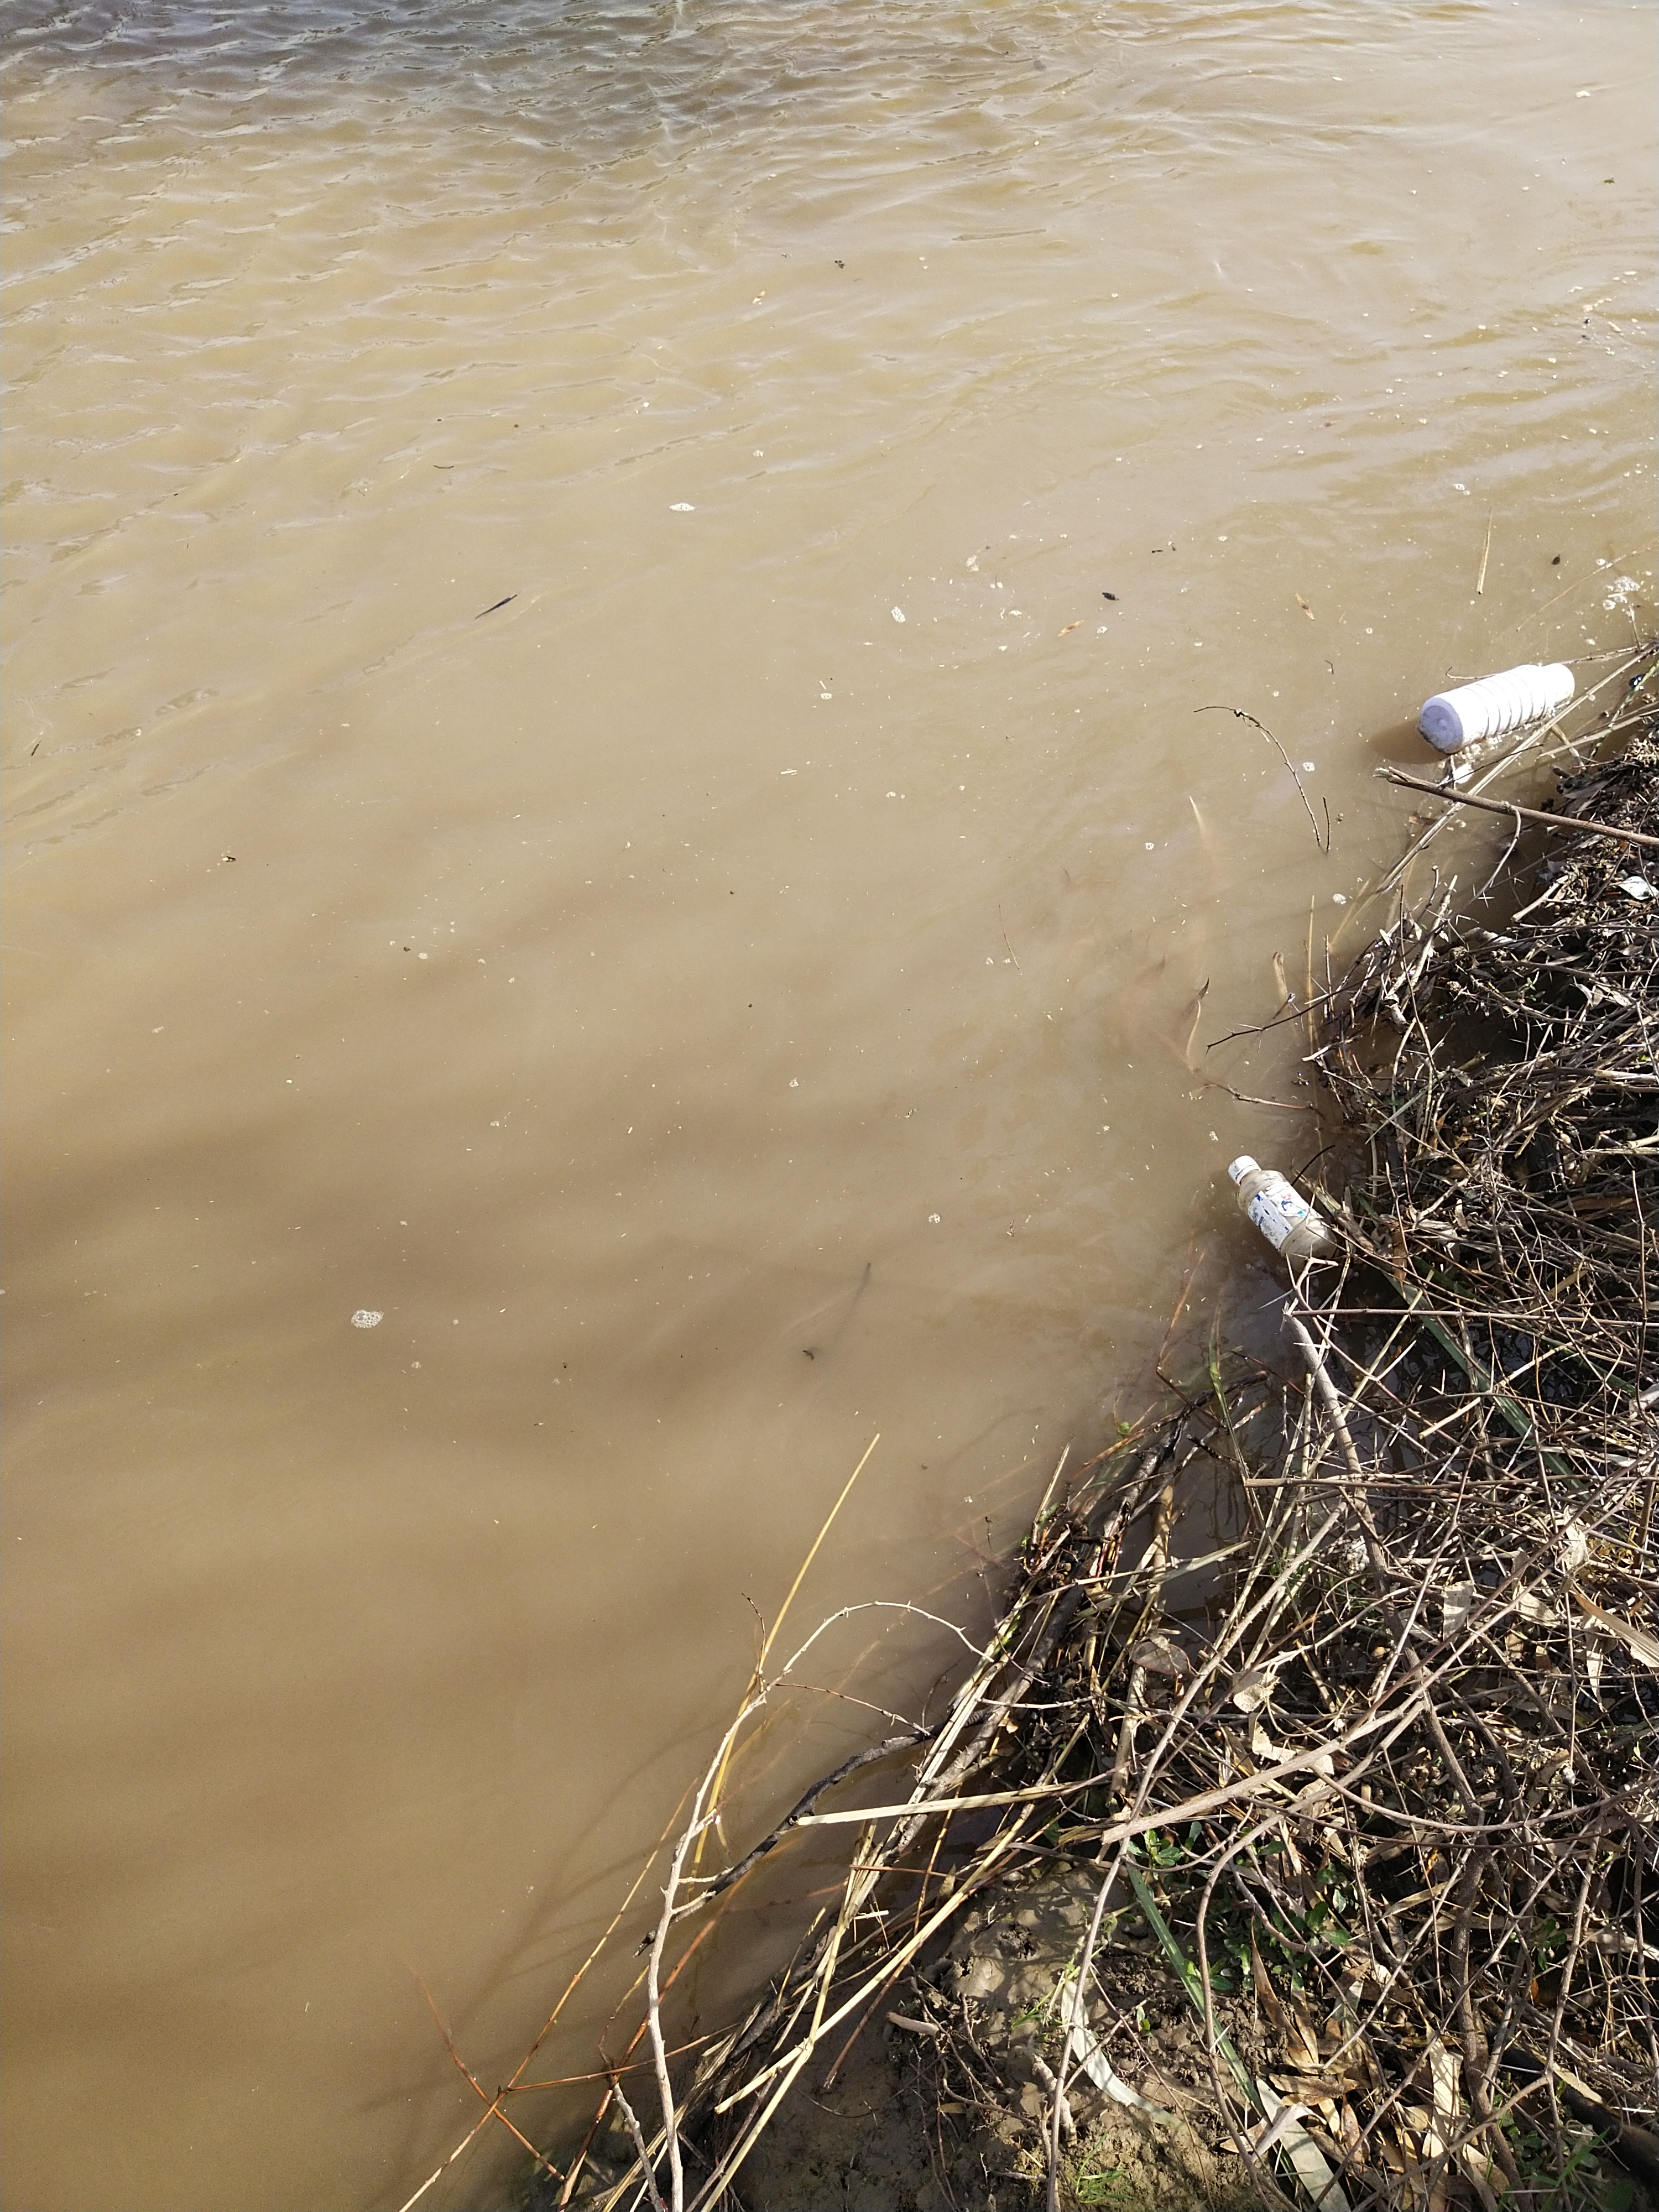Plastic Bottle: (1419, 662, 1575, 754), (1227, 1155, 1337, 1271)
